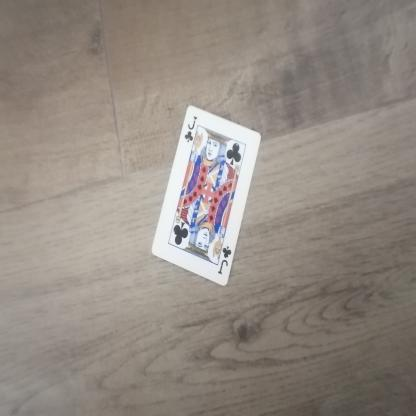JC: (217, 238, 238, 278), (182, 111, 204, 146)
